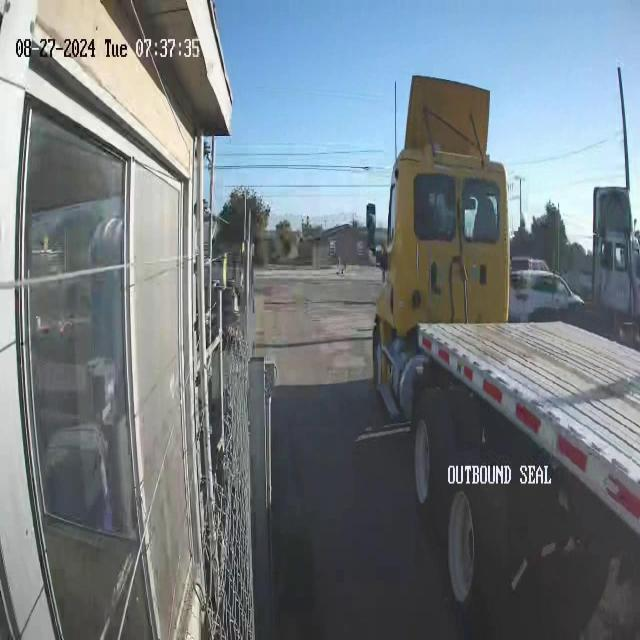BOBTAIL: (365, 73, 640, 640)
